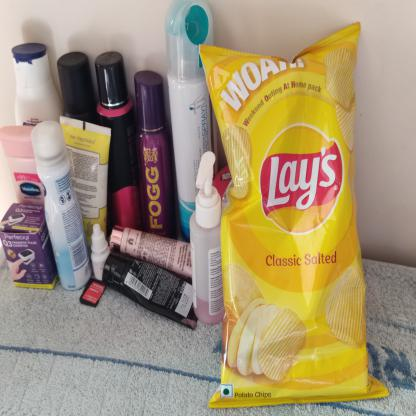classicsalted: (199, 20, 390, 408)
